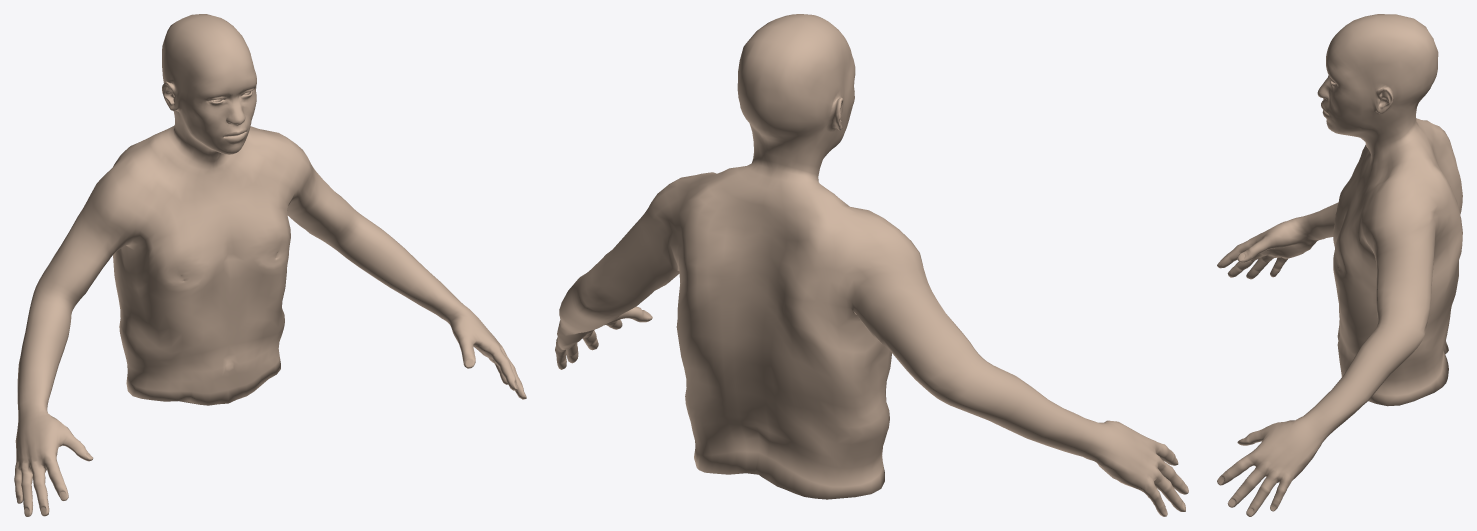
The model's file is final model with shape keys.glb.
3 views of the same model, side by side, from view 1: azimuth 30°, elevation 25°; view 2: azimuth 150°, elevation 25°; view 3: azimuth 270°, elevation 25° (orthographic). The views are drawn at different scales.
Parts seen in each view (by area): view 1: Base; view 2: Base; view 3: Base.
Part boxes in pixels (<box>): Base: <box>14,14,526,516</box>; Base: <box>555,14,1188,516</box>; Base: <box>1217,14,1462,516</box>.
Size of the model in its own units: 9.07 by 6.69 by 3.93.
